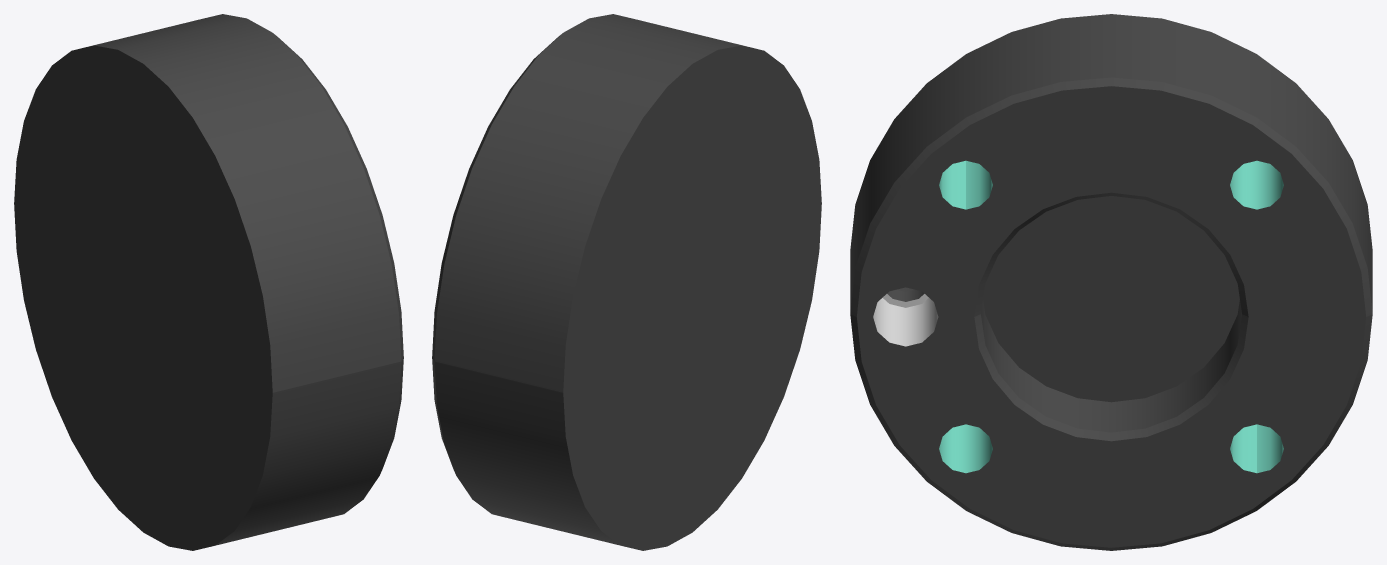
3 views of the same model, side by side, from view 1: azimuth 30°, elevation 25°; view 2: azimuth 150°, elevation 25°; view 3: azimuth 270°, elevation 25° (orthographic).
Visible parts, largest first — view 1: Mesh_0; view 2: Mesh_0; view 3: Mesh_0.
Part boxes in pixels (x1=…): Mesh_0: x1=14, y1=14, x2=403, y2=550; Mesh_0: x1=432, y1=14, x2=821, y2=550; Mesh_0: x1=850, y1=14, x2=1372, y2=550.
Bounding box in the file's own units: 0.012 × 0.04 × 0.04.
